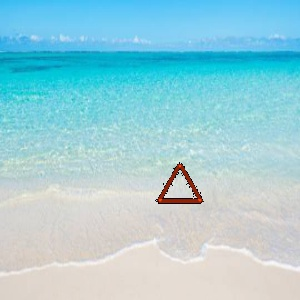triangle: (154, 159, 207, 207)
